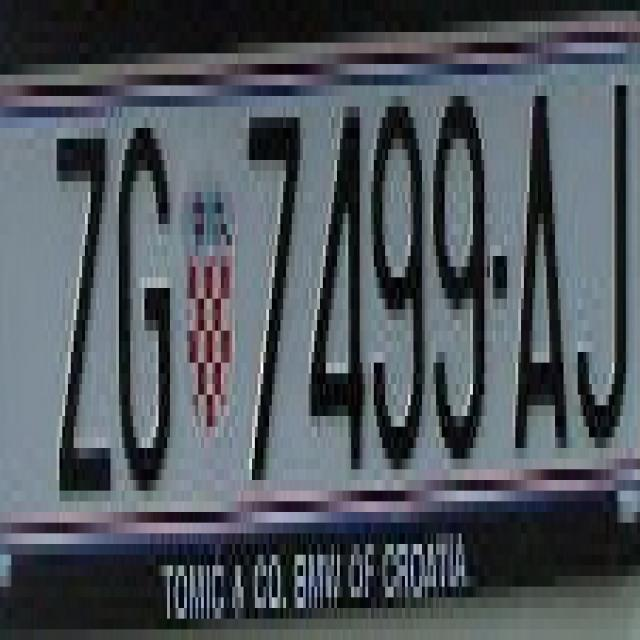4: (306, 96, 368, 470)
7: (246, 107, 303, 490)
9: (374, 96, 425, 480), (436, 117, 487, 448)
A: (506, 74, 566, 458)
G: (121, 117, 176, 480)
Z: (48, 107, 116, 490)
